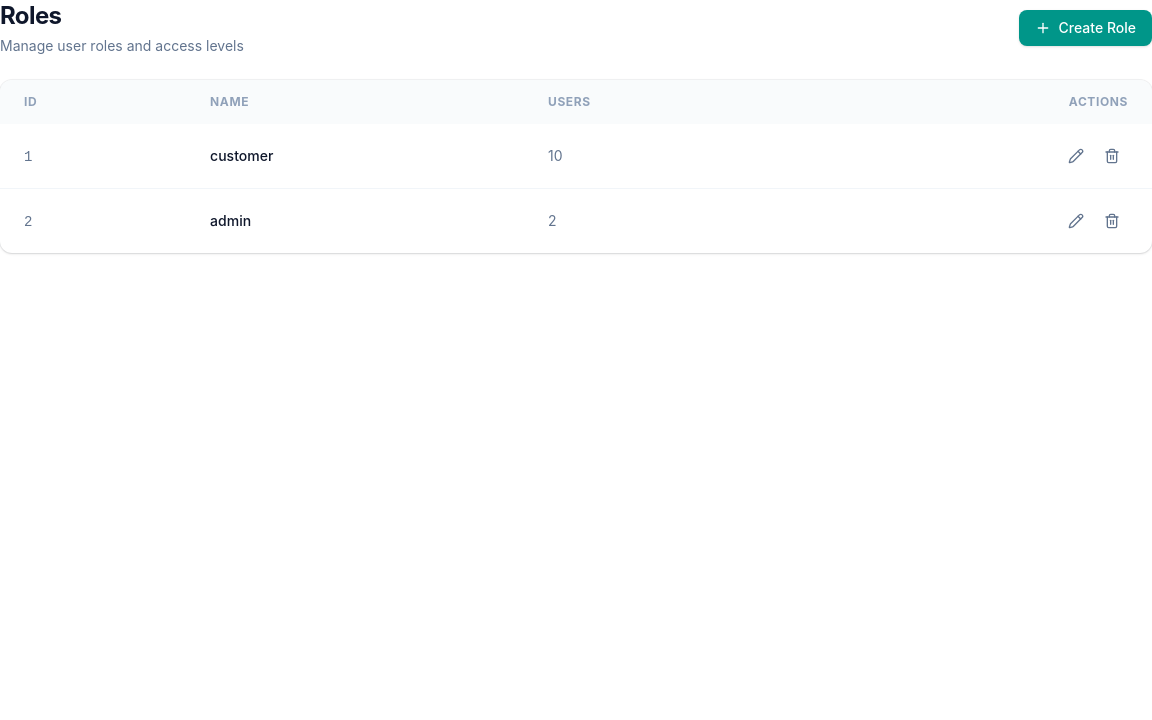
Test: AdminRoleListPage › should open edit modal when Edit is clicked
This screenshot has width=1152, height=720.
Step 1. Click the button named "Edit role" in the row of "customer" → click(1076, 156), box [1060,140,1092,172]
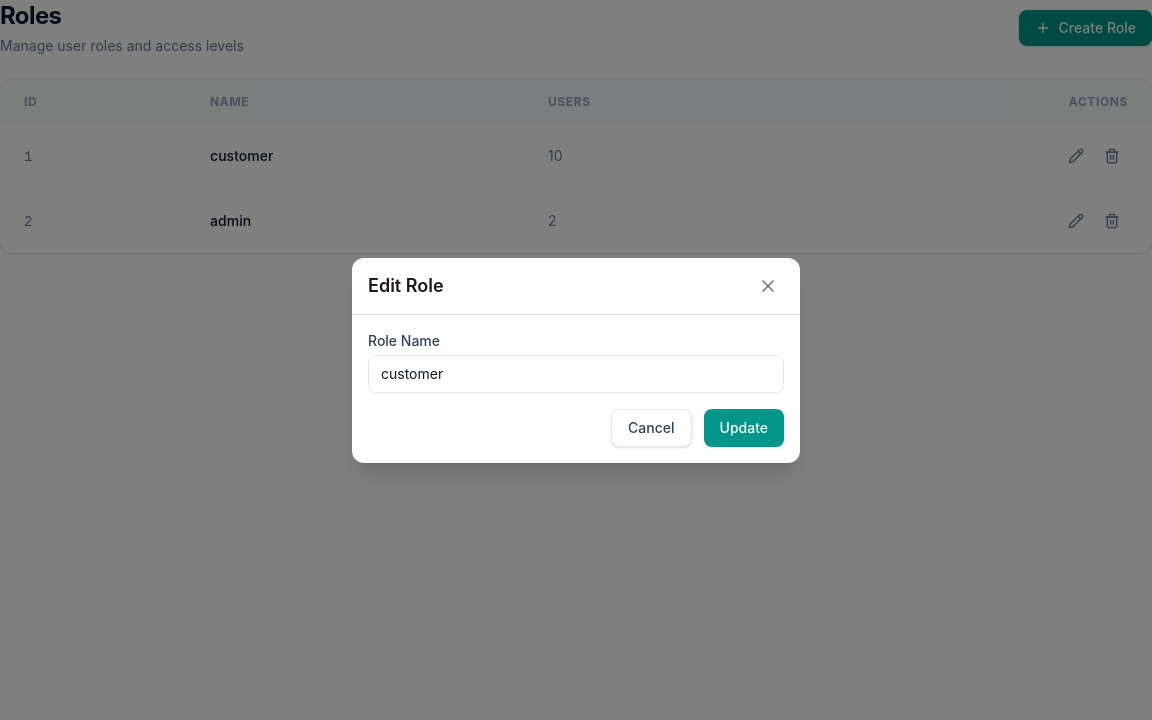
Result: the heading "Edit Role" is shown at [368,272,444,300]
Result: the field labelled "Role Name" is shown at [368,354,784,392]
